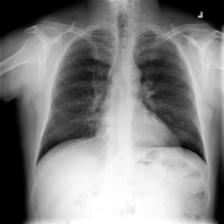normal: (33, 23, 214, 174)
